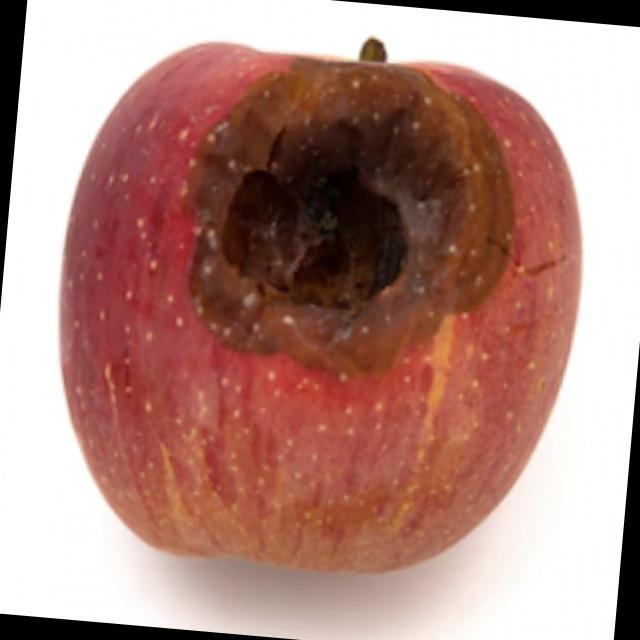rotten_apple: (41, 14, 600, 593)
